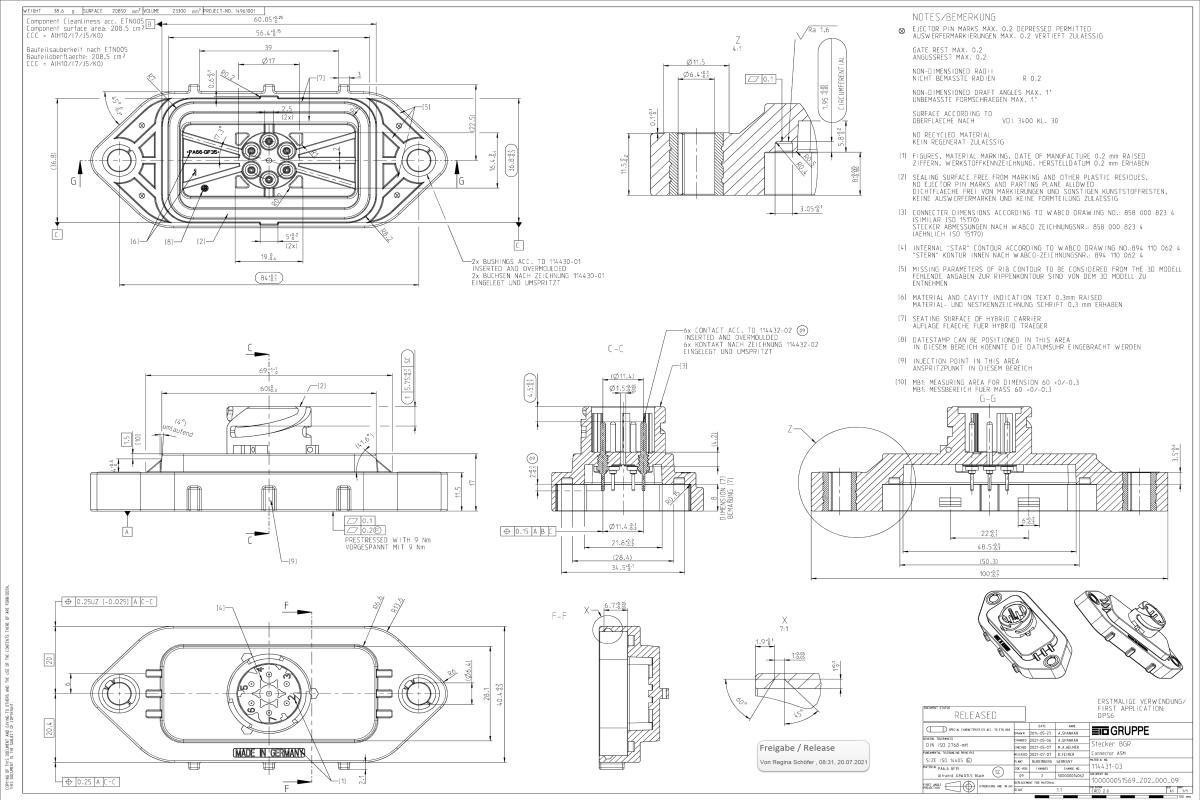falcon_r1: (20, 3, 608, 322), (27, 570, 538, 799), (82, 330, 494, 573), (491, 297, 833, 583), (770, 393, 1197, 600), (592, 13, 885, 231), (545, 591, 691, 785), (714, 601, 875, 736)
